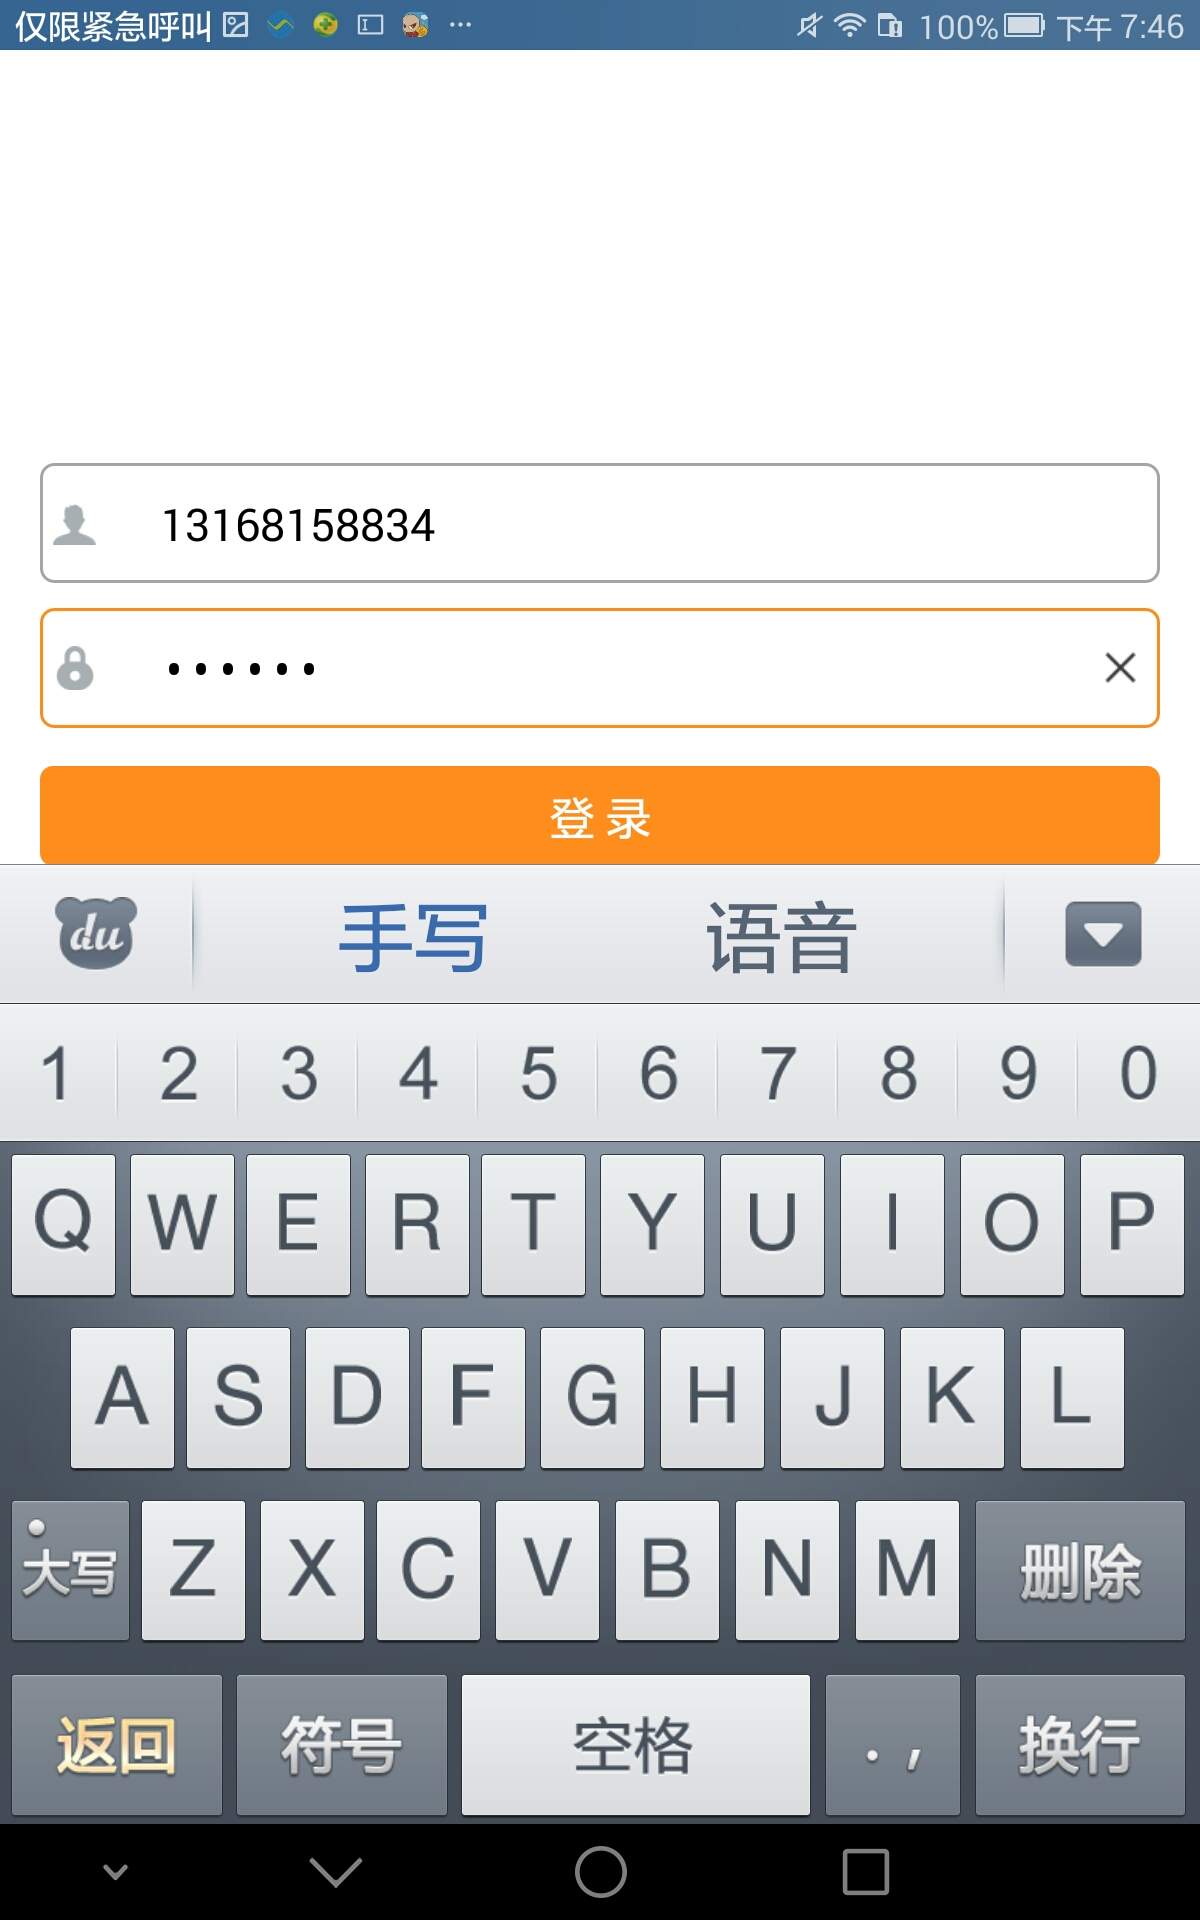button: (25, 760, 1176, 874)
textview: (33, 601, 1176, 744), (30, 458, 1170, 592)
